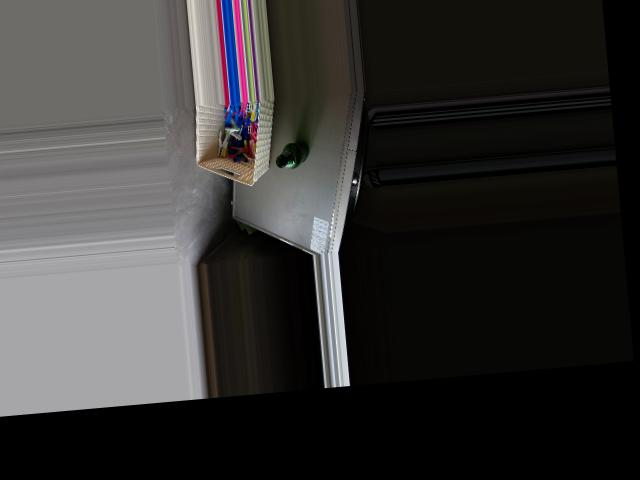beer: (275, 140, 311, 168)
